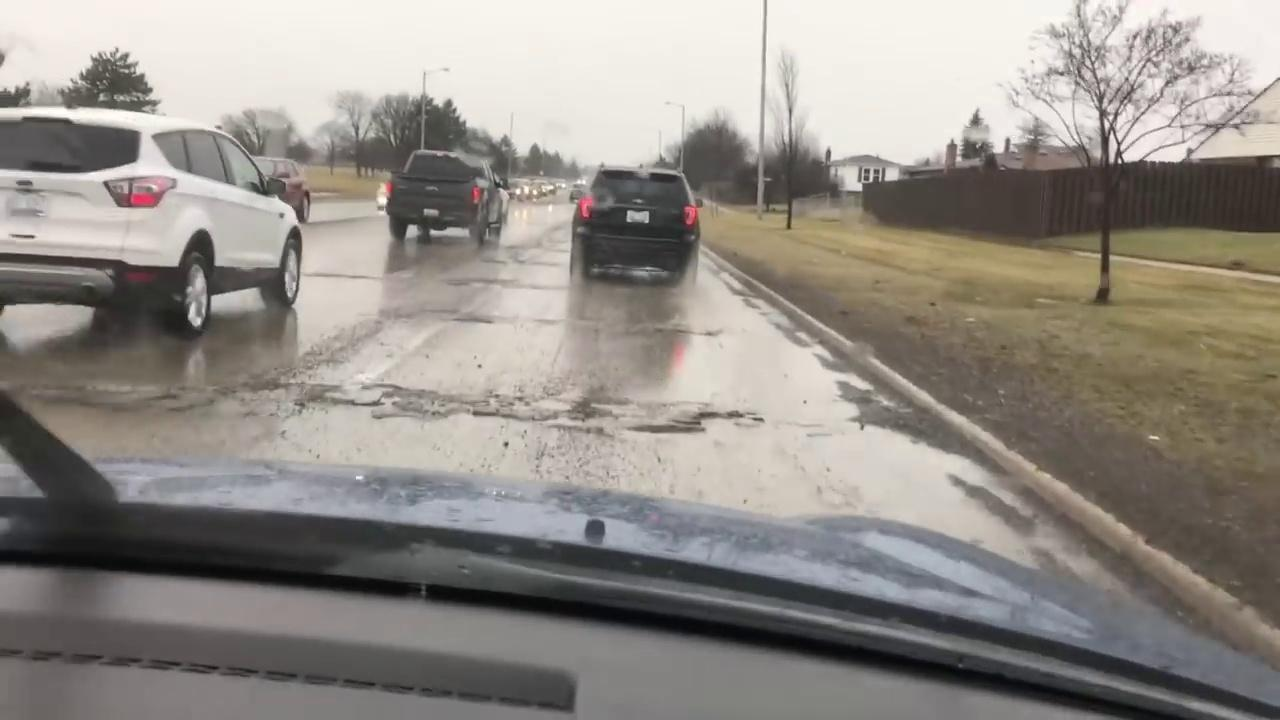pothole: (626, 402, 764, 438), (350, 383, 405, 411)
